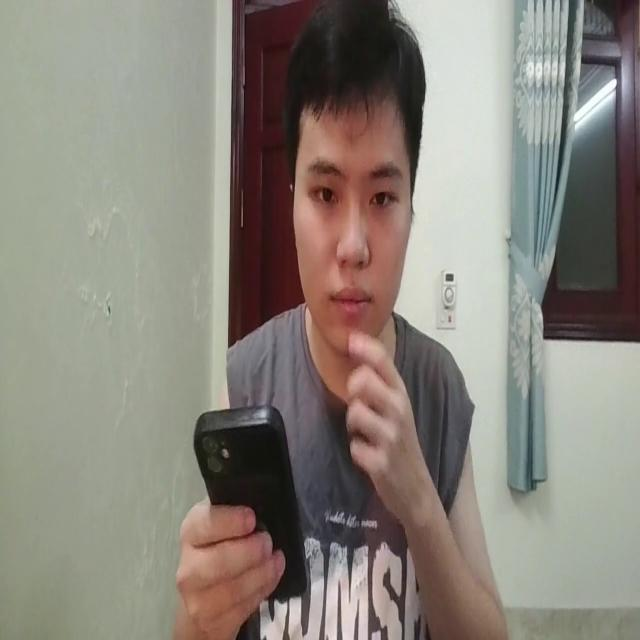phone: (186, 406, 312, 594)
student: (172, 0, 504, 640)
